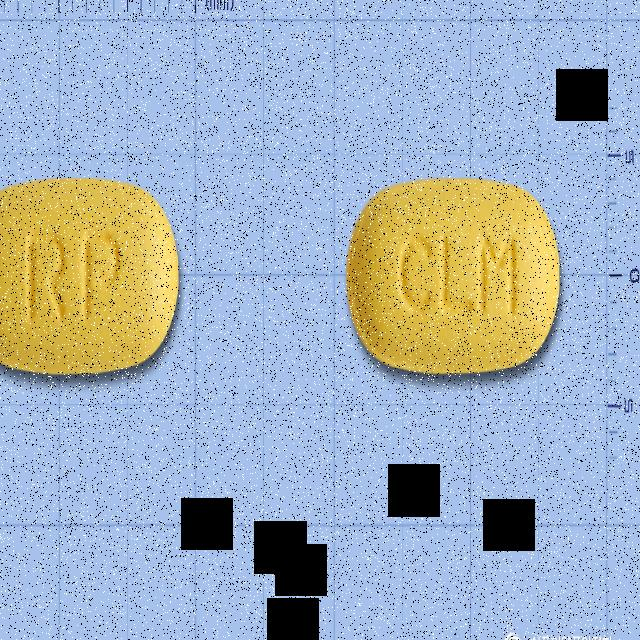Rpclari Tab: (345, 175, 561, 374), (0, 175, 179, 372)
